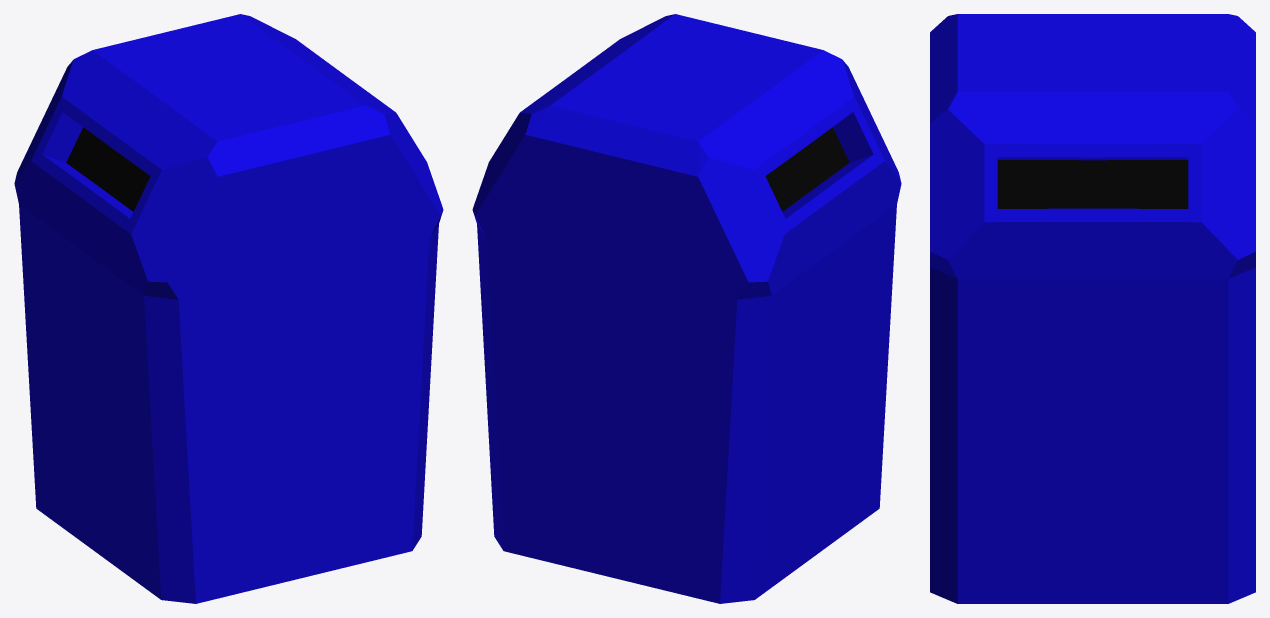
Rendered from trash.glb.
The picture shows the model from 3 angles, left to right: view 1: azimuth 30°, elevation 25°; view 2: azimuth 150°, elevation 25°; view 3: azimuth 270°, elevation 25°; orthographic projection. The views are drawn at different scales.
Parts seen in each view (by area): view 1: Cube; view 2: Cube; view 3: Cube.
Part boxes in pixels (x1,y1,x2,y2): Cube: (14, 14, 443, 603); Cube: (472, 14, 901, 603); Cube: (930, 14, 1255, 603).
Bounding box in the file's own units: 1.8 × 2.58 × 1.58.
